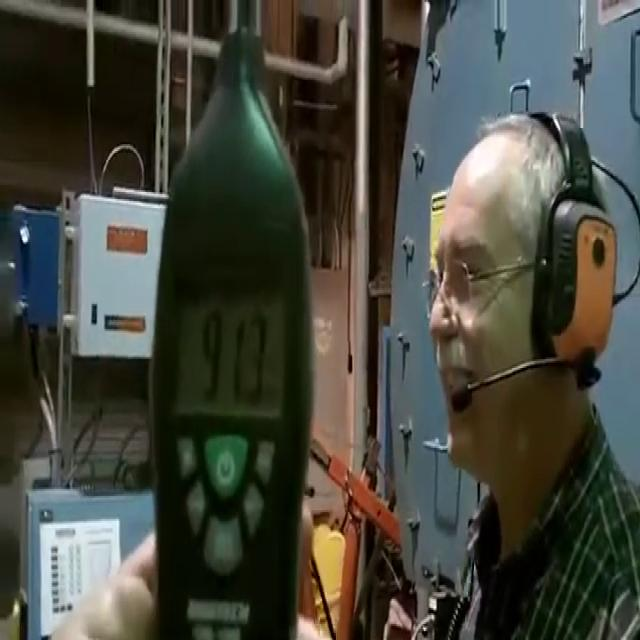earmuff: (533, 175, 619, 381)
glasses: (426, 306, 550, 474), (422, 254, 544, 326)
